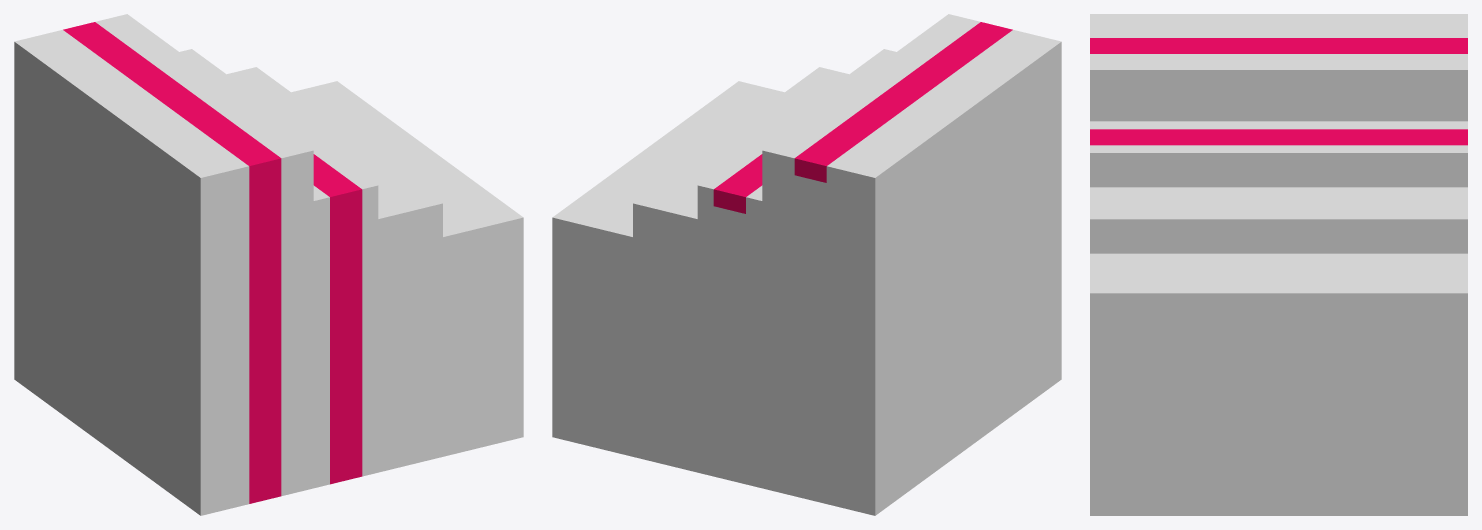
Rendered from DoorRightTop.FBX.
3 views of the same model, side by side, from view 1: azimuth 30°, elevation 25°; view 2: azimuth 150°, elevation 25°; view 3: azimuth 270°, elevation 25° (orthographic).
Parts seen in each view (by area): view 1: LadoDerecPuertaArr; view 2: LadoDerecPuertaArr; view 3: LadoDerecPuertaArr.
Boxes of the visible parts, x1,y1,x2,y2 form: LadoDerecPuertaArr: (14,14,523,515); LadoDerecPuertaArr: (552,14,1061,515); LadoDerecPuertaArr: (1090,14,1467,515).
Size of the model in its own units: 1 by 1 by 1.
Materials: 1 (1 with a texture image).
